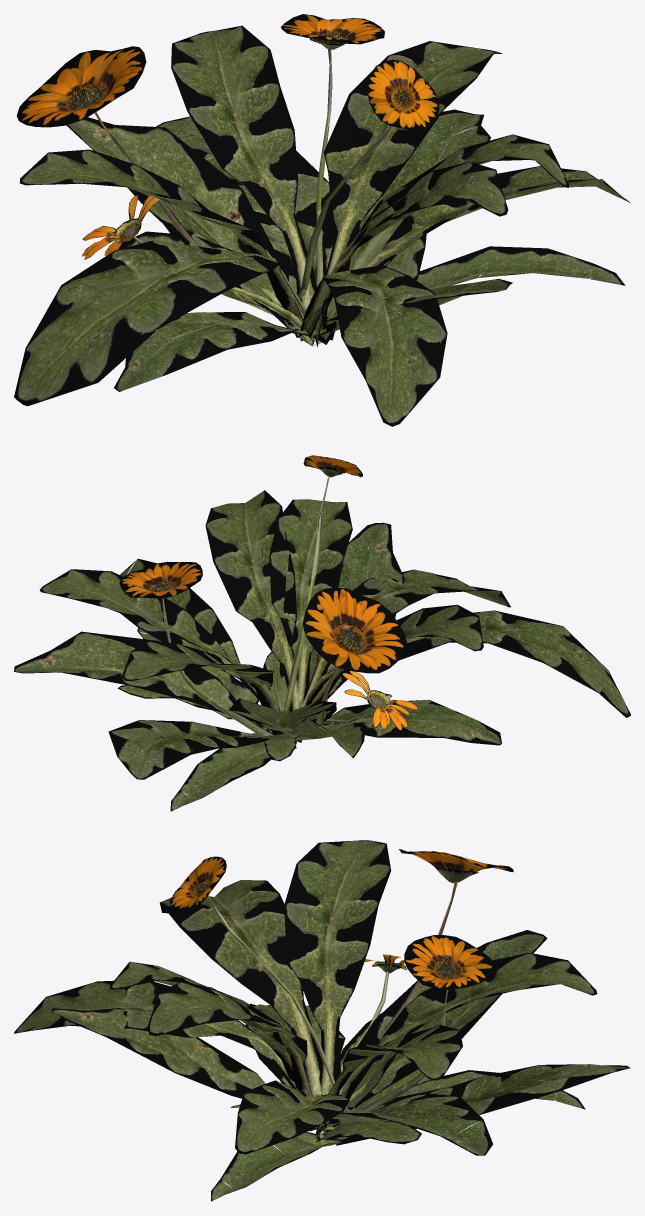
Rendered from flower_gazania_7.gltf.
The picture shows the model from 3 angles, top to bottom: view 1: azimuth 30°, elevation 25°; view 2: azimuth 150°, elevation 25°; view 3: azimuth 270°, elevation 25°; orthographic projection. The views are drawn at different scales.
Parts seen in each view (by area): view 1: flower_gazania_h_LOD0; view 2: flower_gazania_h_LOD0; view 3: flower_gazania_h_LOD0.
Part boxes in pixels (x1=…): flower_gazania_h_LOD0: x1=14, y1=14, x2=629, y2=426; flower_gazania_h_LOD0: x1=14, y1=455, x2=630, y2=811; flower_gazania_h_LOD0: x1=14, y1=840, x2=630, y2=1201.
Bounding box in the file's own units: 0.3377 × 0.1653 × 0.3263.
1 material, 1 textured.
